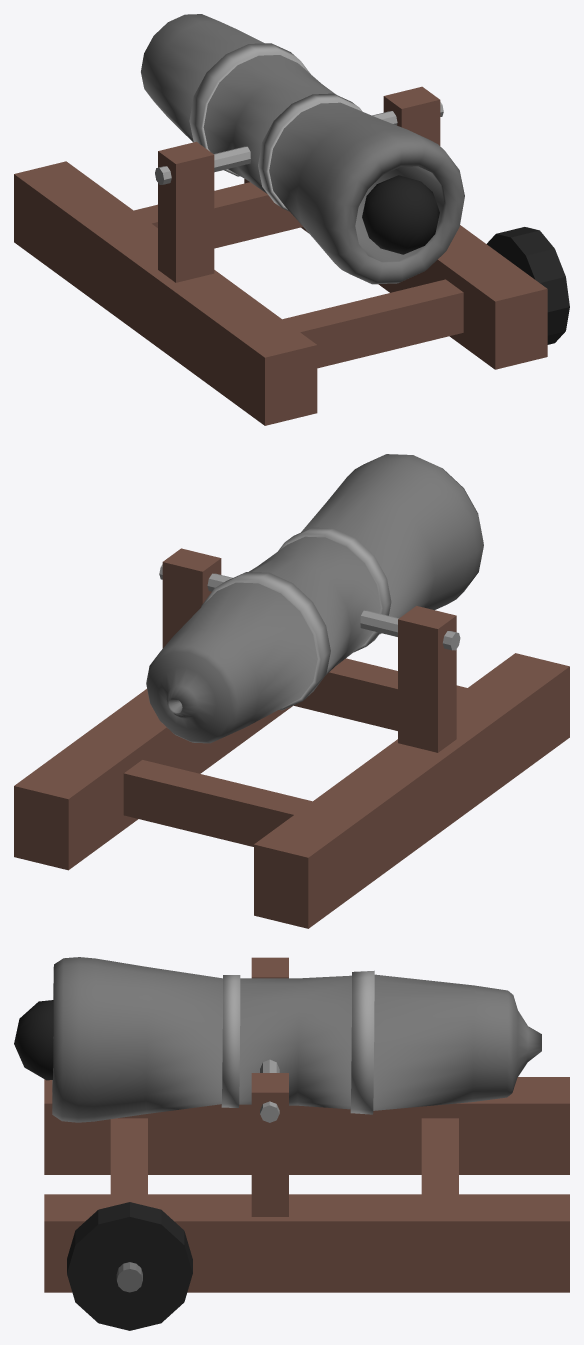
The model's file is BattleToysA_02.fbx.
3 views of the same model, one above another, from view 1: azimuth 30°, elevation 25°; view 2: azimuth 150°, elevation 25°; view 3: azimuth 270°, elevation 25° (orthographic). The views are drawn at different scales.
Visible parts, largest first — view 1: CannonCahssis, CannonPipe, Cannonball, CannonTyre1; view 2: CannonCahssis, CannonPipe; view 3: CannonCahssis, CannonPipe, CannonTyre1, Cannonball.
Boxes of the visible parts, box(x1,y1,x2,y2) form: CannonCahssis: box(14, 86, 547, 425); CannonPipe: box(141, 14, 464, 284); Cannonball: box(362, 175, 439, 254); CannonTyre1: box(487, 227, 569, 344); CannonCahssis: box(14, 548, 569, 928); CannonPipe: box(146, 454, 483, 743); CannonCahssis: box(44, 957, 569, 1292); CannonPipe: box(52, 957, 541, 1122); CannonTyre1: box(67, 1202, 192, 1330); Cannonball: box(14, 1000, 53, 1080).
Size of the model in its own units: 303 by 233 by 423.
